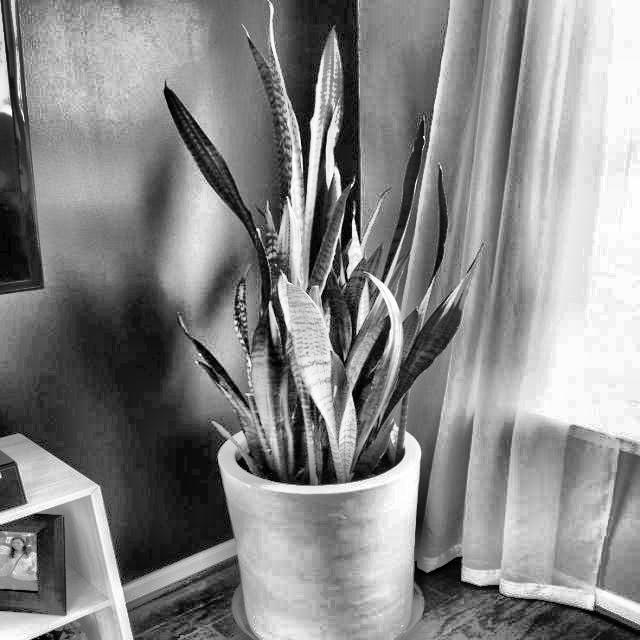plants: (159, 0, 483, 480)
